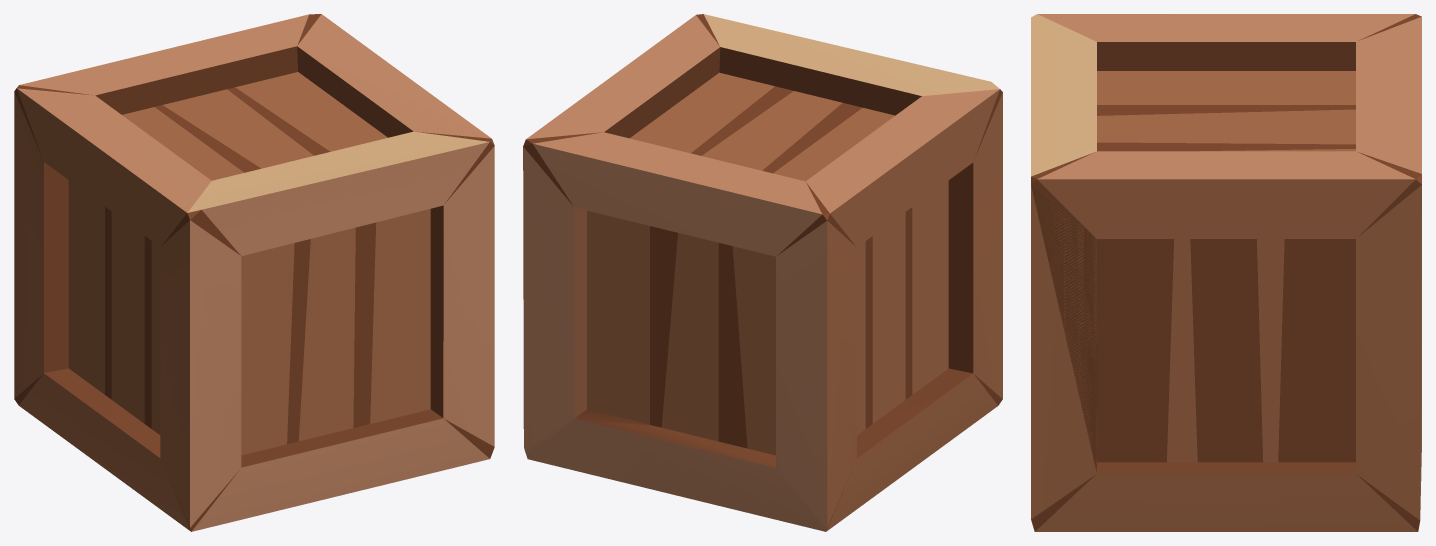
Rendered from thunggo.fbx.
3 renders of one model, left to right at view 1: azimuth 30°, elevation 25°; view 2: azimuth 150°, elevation 25°; view 3: azimuth 270°, elevation 25°, orthographic. The views are drawn at different scales.
Visible parts, largest first — view 1: thunggo; view 2: thunggo; view 3: thunggo.
Boxes of the visible parts, x1,y1,x2,y2 form: thunggo: (14, 14, 494, 531); thunggo: (523, 14, 1002, 531); thunggo: (1031, 14, 1421, 531).
Size of the model in its own units: 169 by 171 by 169.
